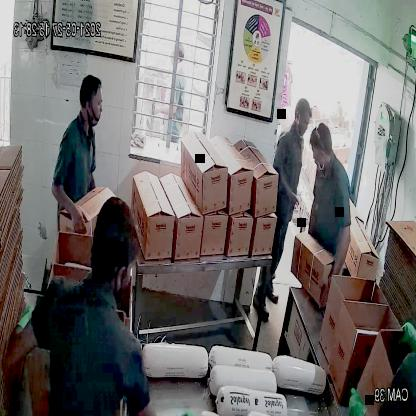no_goggles: (86, 98, 106, 112)
